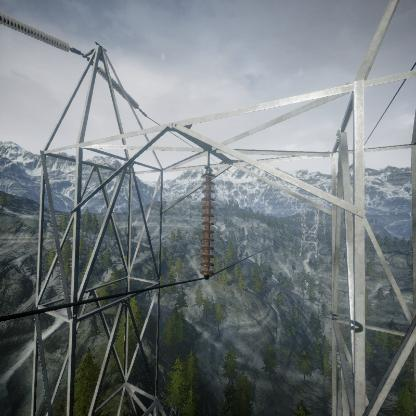insulator: (0, 9, 74, 54), (97, 64, 140, 113), (199, 167, 216, 277)
